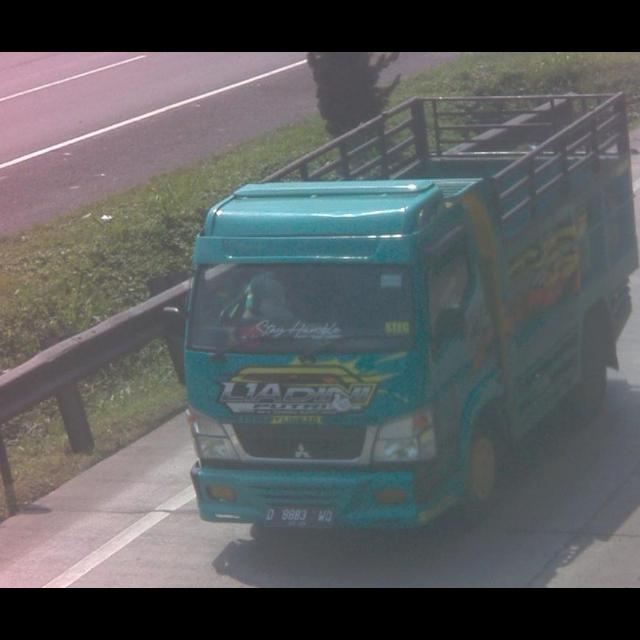plate: (264, 505, 338, 529)
